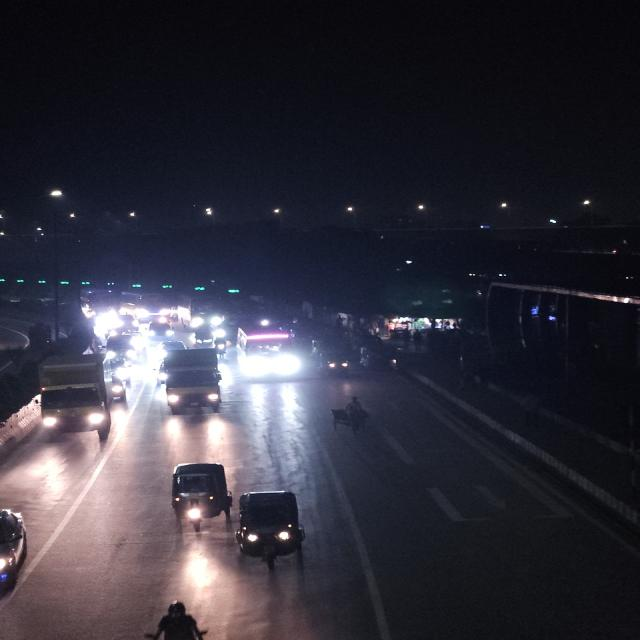bus: (234, 323, 301, 383), (181, 296, 224, 332)
car: (146, 322, 175, 343)
cng: (234, 487, 318, 571), (168, 458, 233, 536), (321, 348, 352, 378), (193, 324, 214, 346)
motorcycle: (134, 596, 217, 640)
rickshaw: (328, 394, 376, 440)
truck: (38, 352, 129, 444), (155, 347, 228, 415)
